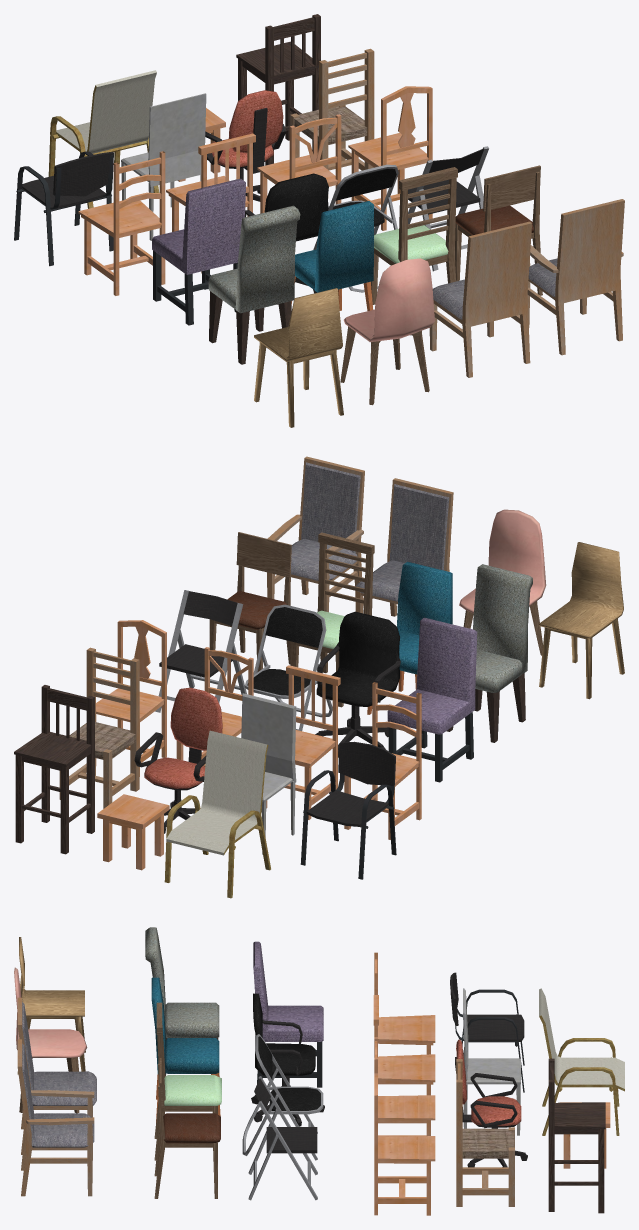
The model's file is chairs.glb.
The picture shows the model from 3 angles, top to bottom: view 1: azimuth 30°, elevation 25°; view 2: azimuth 150°, elevation 25°; view 3: azimuth 270°, elevation 25°; orthographic projection. The views are drawn at different scales.
Parts seen in each view (by area): view 1: Chair_01, Chair, Chair_07, Chair_11, Chair_02, Chair_22, Chair_06, Chair_03, Chair_05, Chair_15, Chair_18, Chair_20 (+10 smaller); view 2: Chair_22, Chair_11, Chair_07, Chair, Chair_20, Chair_01, Chair_10, Chair_03, Chair_19, Chair_17, Chair_16, Chair_18 (+11 smaller); view 3: Chair, Chair_16, Chair_20, Chair_22, Chair_11, Chair_12, Chair_04, Chair_01, Chair_08, Chair_07, Chair_05, Chair_06 (+11 smaller).
Boxes of the visible parts, box(x1,y1,x2,y2) form: Chair_01: box(429, 221, 531, 377); Chair: box(527, 199, 624, 355); Chair_07: box(208, 205, 300, 364); Chair_11: box(152, 178, 245, 325); Chair_02: box(340, 258, 434, 405); Chair_22: box(48, 70, 159, 208); Chair_06: box(291, 201, 373, 310); Chair_03: box(254, 288, 343, 427); Chair_05: box(371, 167, 457, 304); Chair_15: box(78, 151, 165, 295); Chair_18: box(121, 93, 206, 240); Chair_20: box(236, 14, 320, 165); Chair_22: box(164, 730, 270, 898); Chair_11: box(387, 617, 477, 782); Chair_07: box(446, 564, 532, 742); Chair: box(267, 456, 364, 612); Chair_20: box(14, 685, 94, 854); Chair_01: box(355, 478, 453, 616); Chair_10: box(315, 611, 400, 757); Chair_03: box(539, 542, 624, 699); Chair_19: box(300, 741, 396, 879); Chair_17: box(134, 687, 222, 833); Chair_16: box(59, 647, 139, 808); Chair_18: box(241, 693, 296, 854); Chair: box(17, 1039, 94, 1196); Chair_16: box(456, 1059, 514, 1206); Chair_20: box(548, 1058, 605, 1213); Chair_22: box(539, 988, 624, 1135); Chair_11: box(253, 941, 323, 1087); Chair_12: box(374, 1073, 435, 1215); Chair_04: box(154, 1058, 220, 1198); Chair_01: box(17, 997, 96, 1154); Chair_08: box(248, 1076, 317, 1200); Chair_07: box(145, 927, 219, 1075); Chair_05: box(154, 1002, 221, 1160); Chair_06: box(151, 977, 220, 1122).
Bounding box in the file's own units: 3.08 × 1.46 × 5.21.
Materials: 22 (22 with a texture image).
